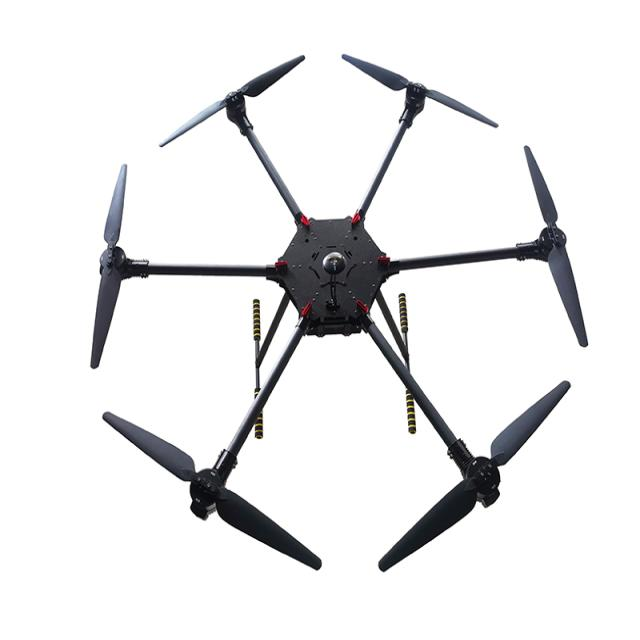drone: (37, 35, 599, 582)
